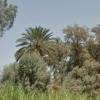Palm tree: (15, 21, 59, 84)
